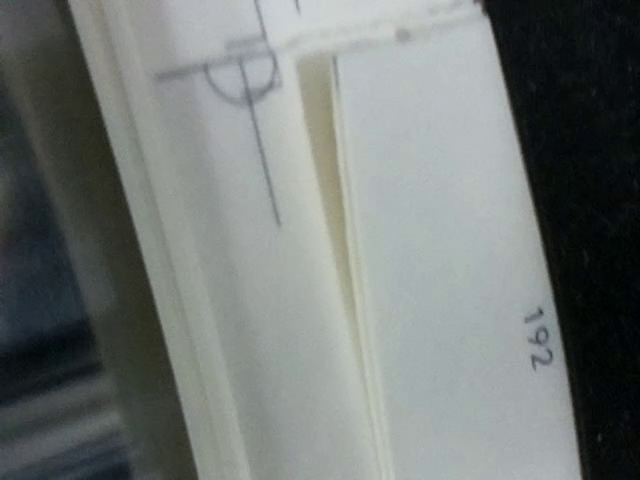misaligned: (149, 1, 290, 112)
